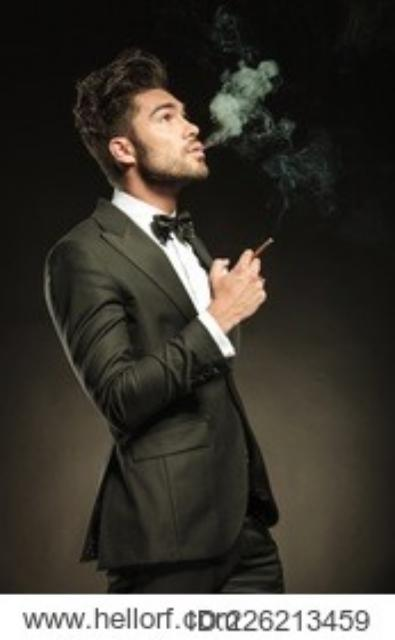SafeDriving: (154, 104, 176, 128)
Smoking: (229, 222, 287, 274)
